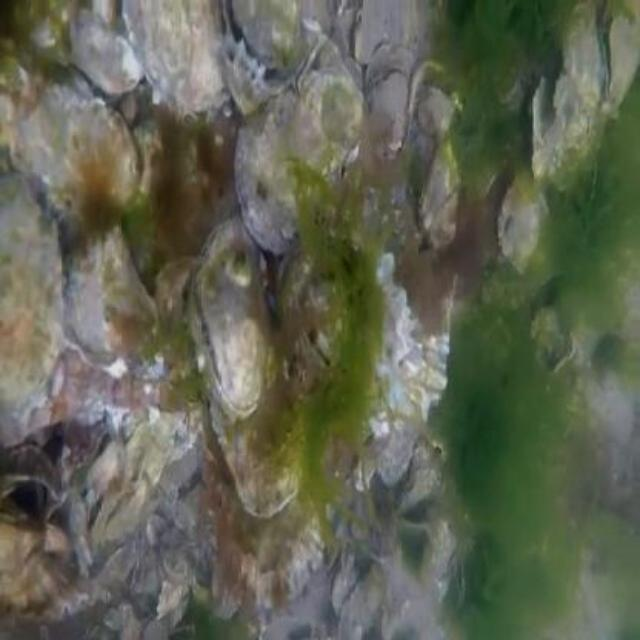Oyster-Closed: (233, 47, 364, 255), (0, 169, 66, 443), (55, 223, 158, 383), (200, 482, 326, 602), (119, 0, 229, 106), (0, 514, 102, 623), (66, 9, 150, 91), (413, 134, 463, 252)
Oyster-Open: (24, 68, 152, 220), (184, 221, 280, 423), (192, 379, 318, 523), (529, 0, 603, 188), (478, 152, 542, 274), (286, 273, 348, 387), (223, 0, 301, 74), (0, 441, 66, 523), (592, 0, 640, 112), (362, 60, 418, 156), (214, 31, 272, 114), (322, 554, 363, 616)
